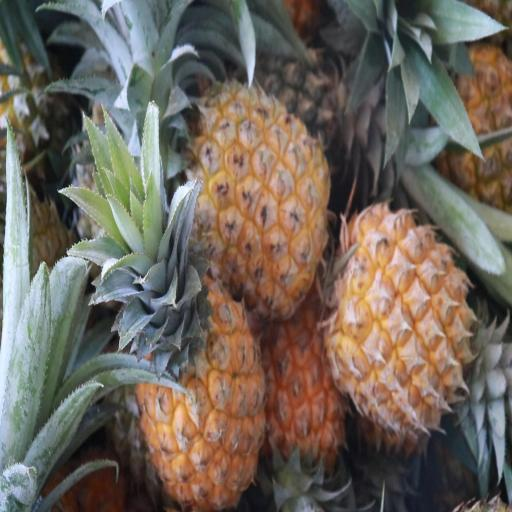Pineapple - v8 v1: (138, 246, 268, 512), (190, 79, 333, 317), (334, 204, 477, 438), (266, 294, 350, 505)
